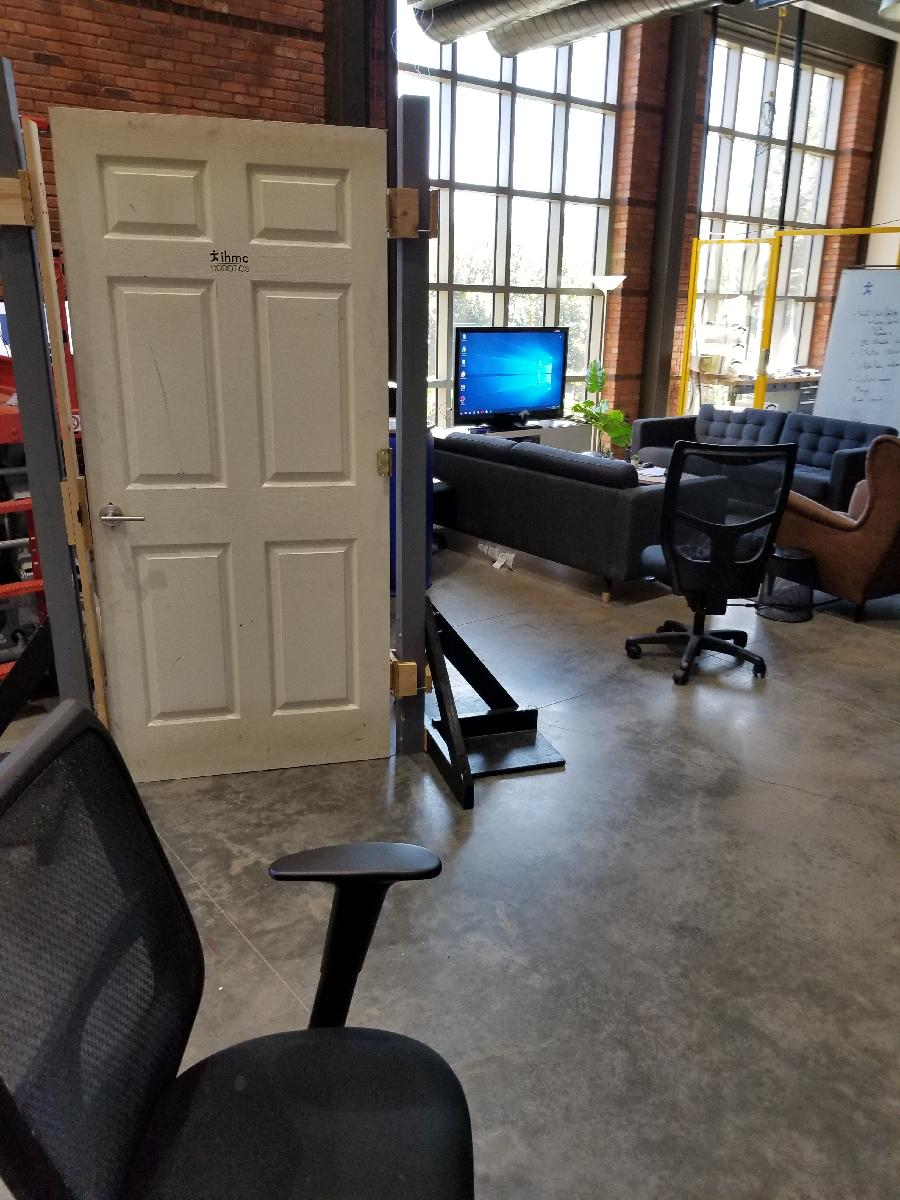door: (43, 102, 393, 797)
doorHandle: (98, 501, 155, 532)
